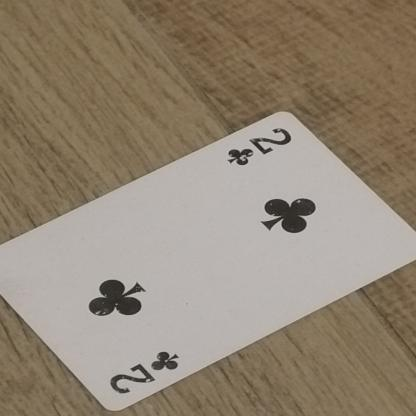2C: (212, 125, 300, 178), (104, 346, 196, 396)
